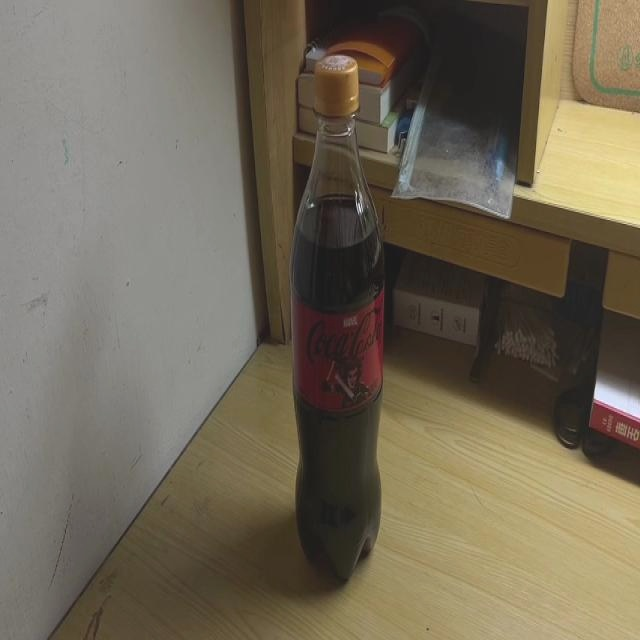Coca-Cola: (291, 55, 384, 589)
